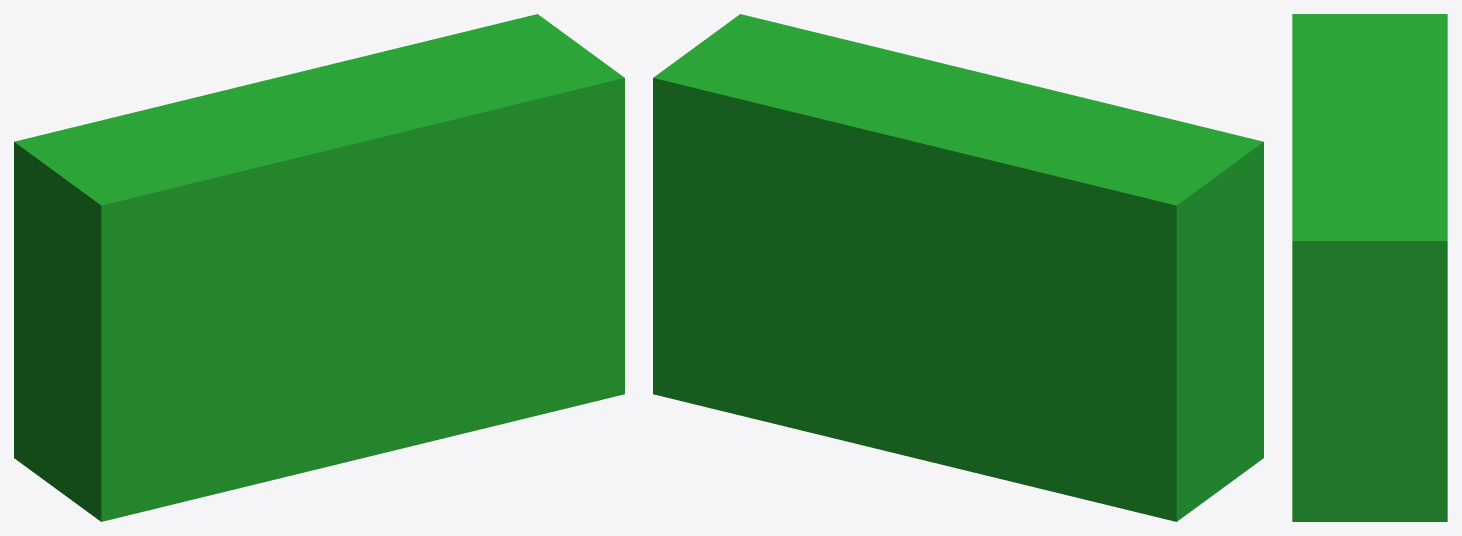
The model's file is module-edge_land_cliff_left_002.glb.
The picture shows the model from 3 angles, left to right: view 1: azimuth 30°, elevation 25°; view 2: azimuth 150°, elevation 25°; view 3: azimuth 270°, elevation 25°; orthographic projection. The views are drawn at different scales.
Parts seen in each view (by area): view 1: module-edge_land_cliff_left_002; view 2: module-edge_land_cliff_left_002; view 3: module-edge_land_cliff_left_002.
Boxes of the visible parts, box(x1,y1,x2,y2) form: module-edge_land_cliff_left_002: box(14, 14, 624, 521); module-edge_land_cliff_left_002: box(653, 14, 1263, 521); module-edge_land_cliff_left_002: box(1292, 14, 1447, 521).
Bounding box in the file's own units: 0.866 × 0.5 × 0.25.
